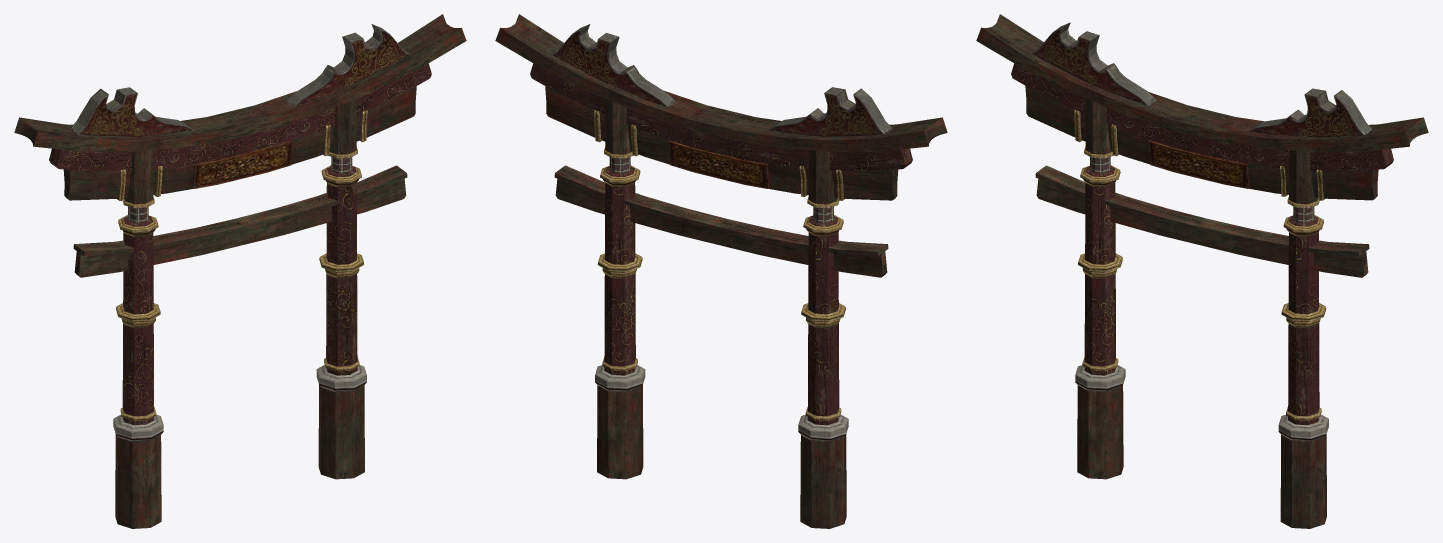
File: TW2_9_ADDONS_01_30-transformed.glb
3 renders of one model, left to right at view 1: azimuth 30°, elevation 25°; view 2: azimuth 150°, elevation 25°; view 3: azimuth 330°, elevation 25°, orthographic.
Visible parts, largest first — view 1: default; view 2: default; view 3: default.
Boxes of the visible parts, box(x1,y1,x2,y2) form: default: box(14, 14, 466, 528); default: box(495, 14, 947, 528); default: box(976, 14, 1428, 528).
Bounding box in the file's own units: 7.87 × 7.56 × 0.8179.
Materials: 3 (3 with a texture image).
